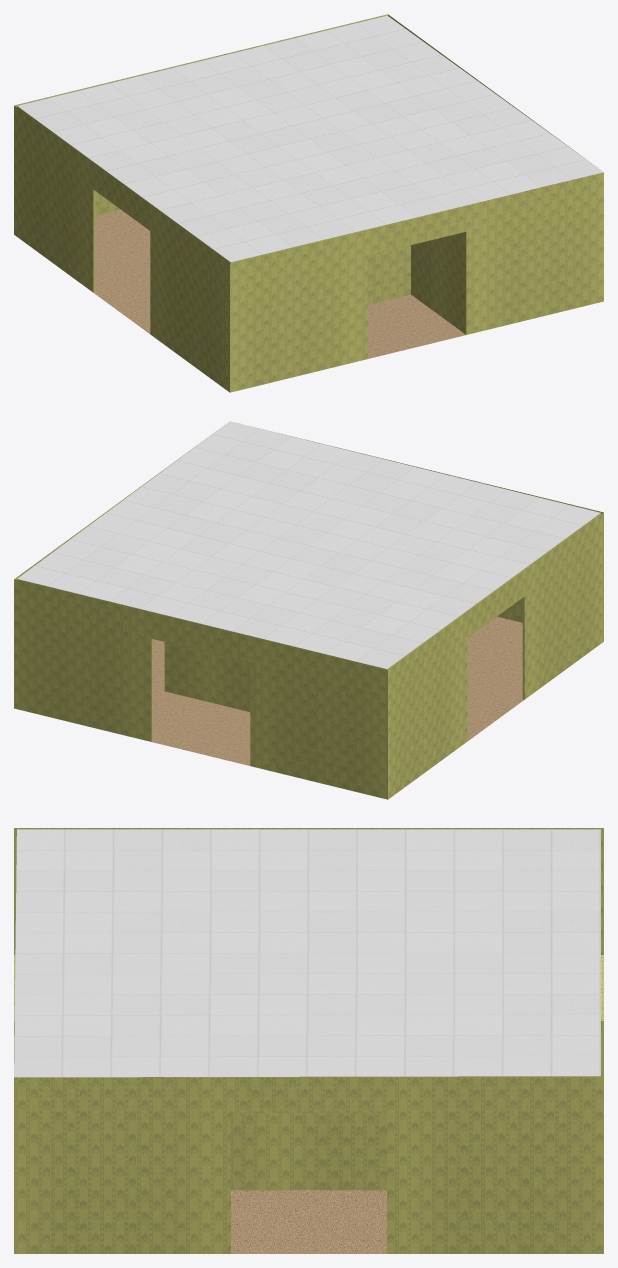
Rendered from 4exitwhirly.glb.
The picture shows the model from 3 angles, top to bottom: view 1: azimuth 30°, elevation 25°; view 2: azimuth 150°, elevation 25°; view 3: azimuth 270°, elevation 25°; orthographic projection. The views are drawn at different scales.
Parts seen in each view (by area): view 1: 4exitwhirly; view 2: 4exitwhirly; view 3: 4exitwhirly.
Part boxes in pixels (x1,y1,x2,y2): 4exitwhirly: (14,14,603,392); 4exitwhirly: (14,421,603,799); 4exitwhirly: (14,828,603,1253).
Size of what is drawn, in the model's own units: 15.15 by 5 by 15.15.
3 materials, 3 textured.
